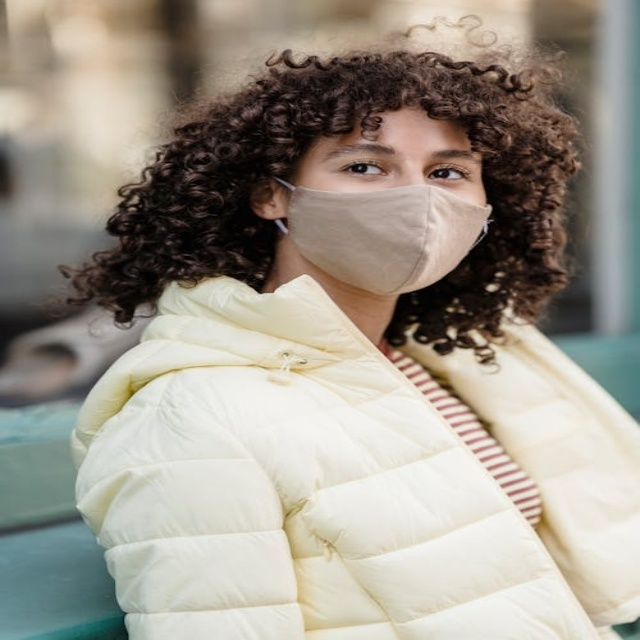Mascara: (271, 174, 492, 294)
Sin_gafas: (308, 139, 483, 186)
